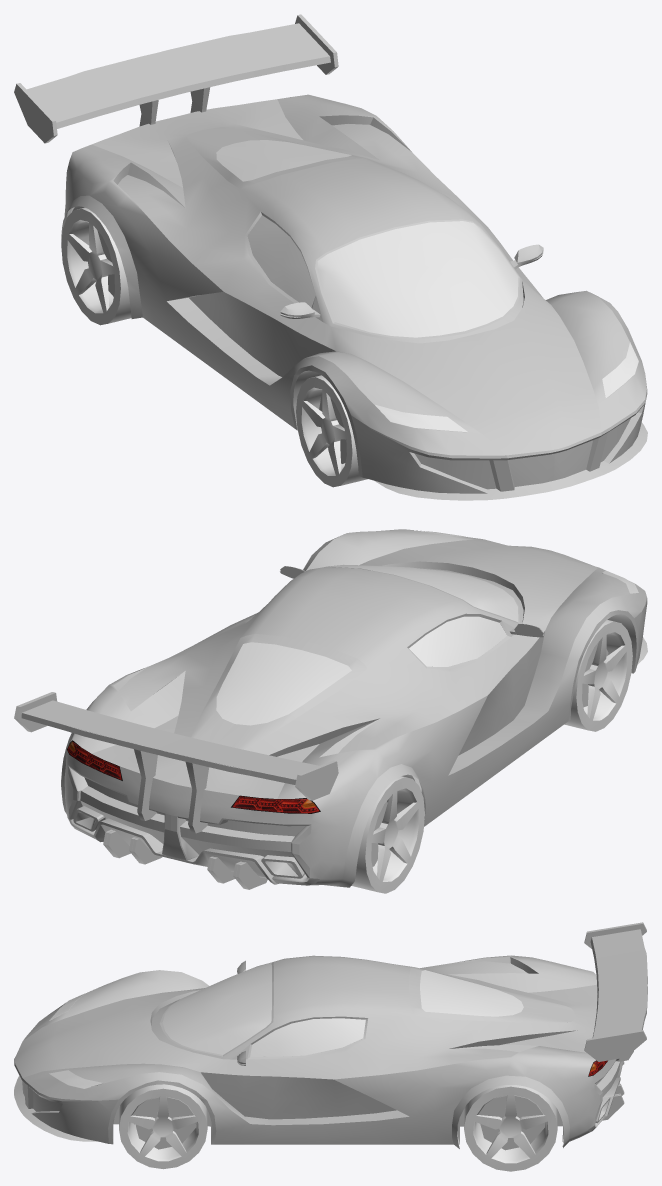
Rendered from car 2.fbx.
3 renders of one model, top to bottom at view 1: azimuth 30°, elevation 25°; view 2: azimuth 150°, elevation 25°; view 3: azimuth 270°, elevation 25°, orthographic. The views are drawn at different scales.
Parts seen in each view (by area): view 1: body, body.001, Glass_27, Wheel_Back_R, Wheel_R, Glass_light; view 2: body, body.001, Glass_27, Wheel_Back_R, Wheel_R, Taillights_27, body.002; view 3: body, body.001, Glass_27, Wheel_L, Wheel_Back_L, Glass_light.
Part boxes in pixels (left/top/right/bottom): body: left=61, top=94, right=647, bottom=458; body.001: left=14, top=14, right=647, bottom=500; Glass_27: left=216, top=140, right=518, bottom=337; Wheel_Back_R: left=61, top=207, right=131, bottom=325; Wheel_R: left=296, top=375, right=367, bottom=487; Glass_light: left=375, top=342, right=638, bottom=432; body: left=61, top=529, right=647, bottom=887; body.001: left=14, top=567, right=647, bottom=889; Glass_27: left=216, top=564, right=518, bottom=725; Wheel_Back_R: left=351, top=776, right=424, bottom=893; Wheel_R: left=564, top=619, right=632, bottom=731; Taillights_27: left=67, top=740, right=320, bottom=813; body.002: left=73, top=806, right=304, bottom=878; body: left=14, top=955, right=623, bottom=1150; body.001: left=14, top=922, right=647, bottom=1144; Glass_27: left=162, top=962, right=523, bottom=1056; Wheel_L: left=119, top=1084, right=207, bottom=1169; Wheel_Back_L: left=464, top=1085, right=557, bottom=1171; Glass_light: left=49, top=993, right=103, bottom=1088.
Bounding box in the file's own units: 78.21 × 43.33 × 180.
